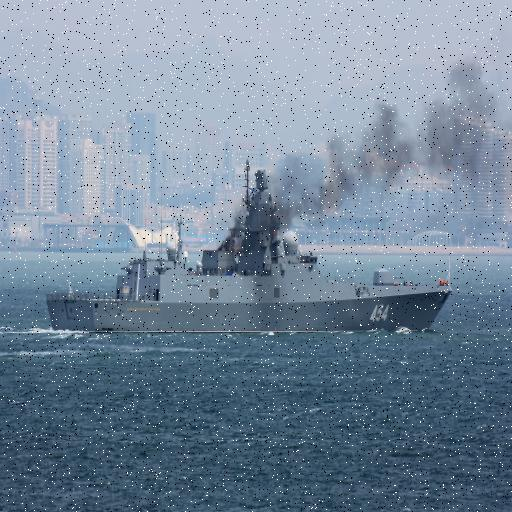Fragata: (45, 153, 454, 338)
